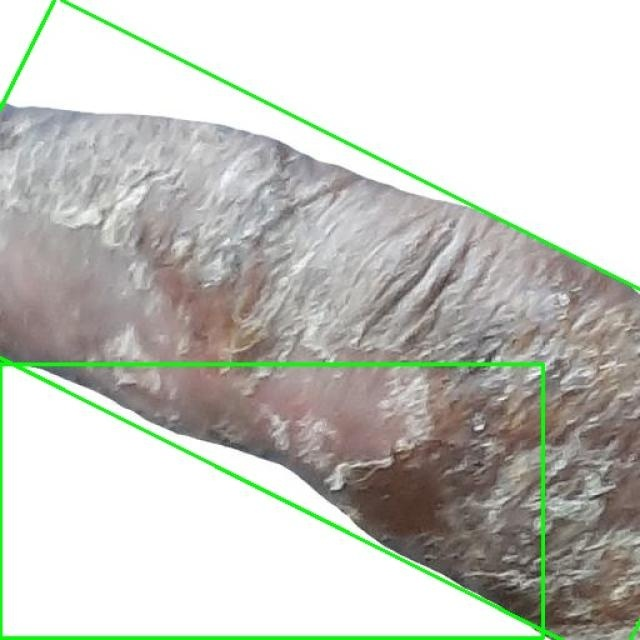Eczema: (0, 0, 640, 640), (0, 365, 544, 639)
